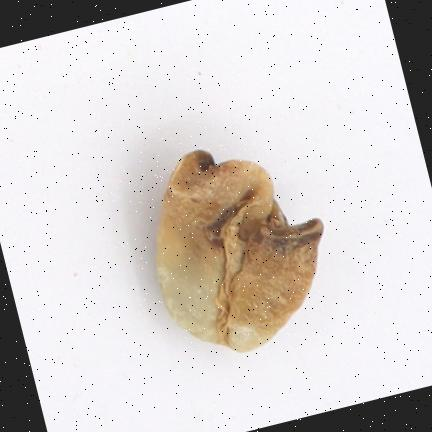cut: (157, 150, 323, 350)
